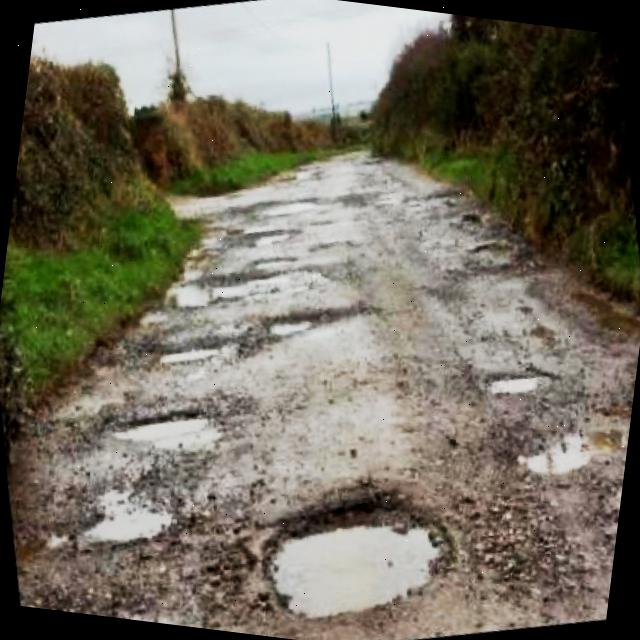pothole: (255, 477, 468, 640), (69, 482, 202, 566), (100, 395, 228, 465), (260, 285, 374, 356), (504, 408, 602, 489), (144, 322, 250, 378), (168, 270, 255, 321), (481, 356, 550, 408)
